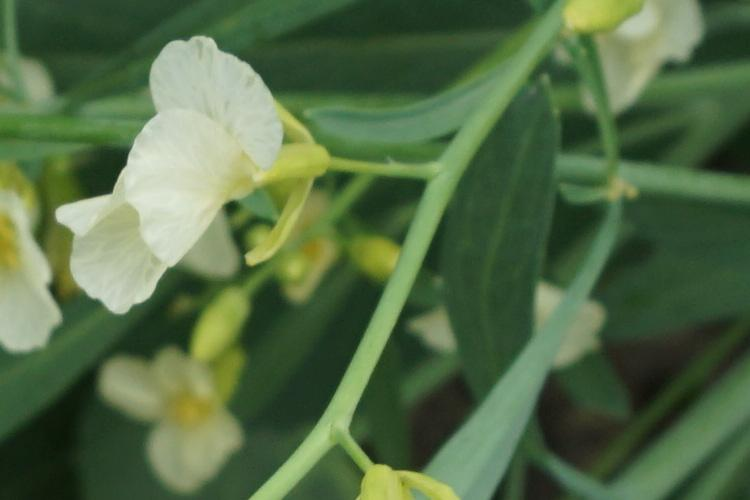bud: (180, 285, 258, 369)
white: (84, 48, 319, 309), (93, 323, 268, 494), (3, 180, 76, 375)
